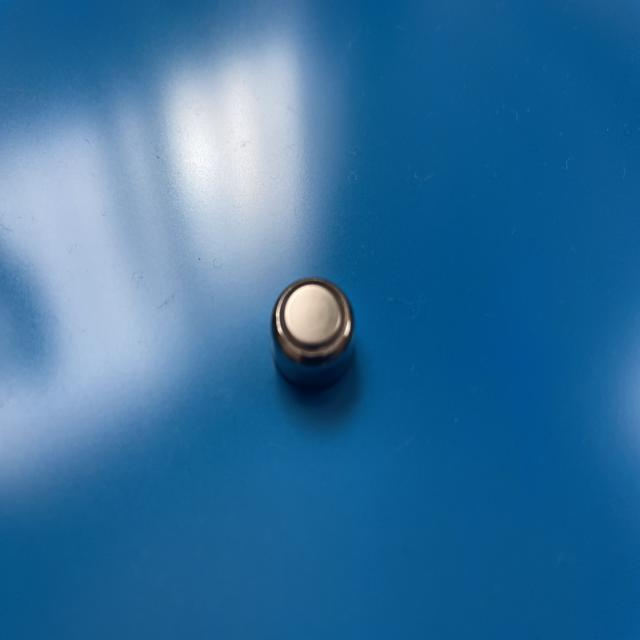COIN: (269, 276, 357, 394)
